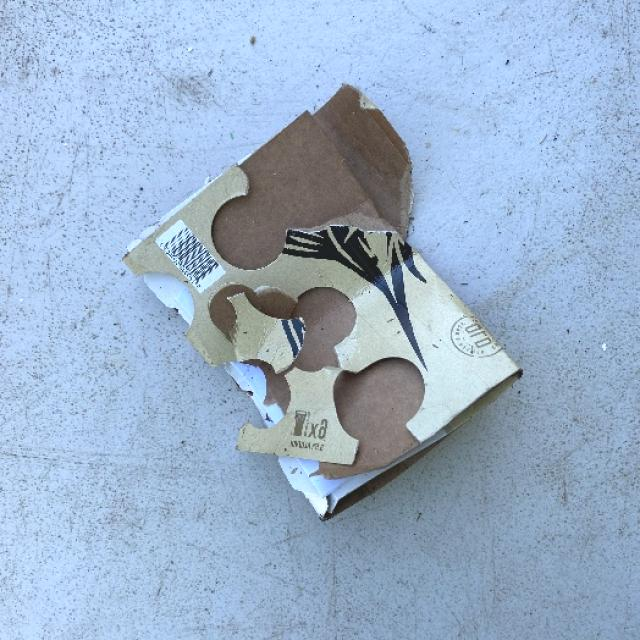kertas: (158, 72, 521, 520)
